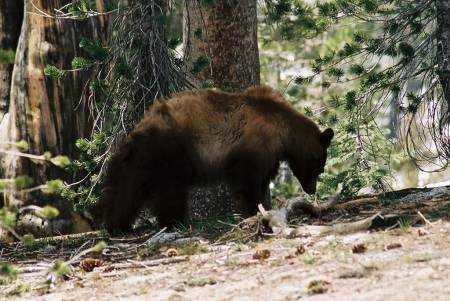bear: (226, 79, 354, 207)
